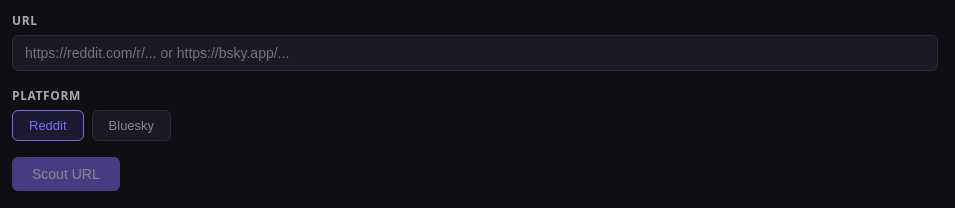
Test case: ManualTasker › shows "filtered" state with filter reason
Type "https://reddit.com/r/test" into the field labelled "URL".
click(475, 53); type("https://reddit.com/r/test")  # box [12,35,938,71]
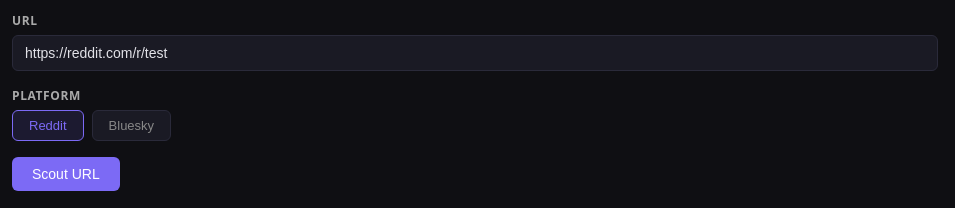
Click the button "Scout URL".
click(66, 174)  # box [12,157,120,191]
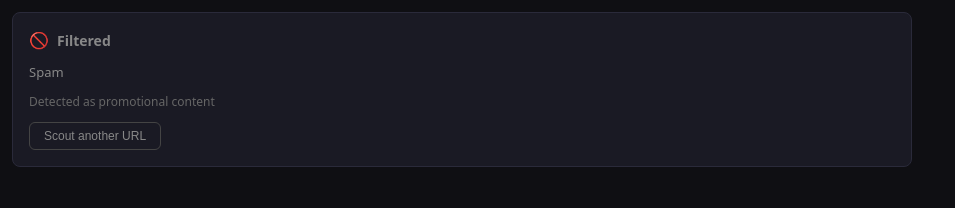
Now the text "Filtered" is shown, box [57,30,111,50]
Now the text "Spam" is shown, box [29,63,64,81]
Now the text "Detected as promotional content" is shown, box [29,93,215,110]
